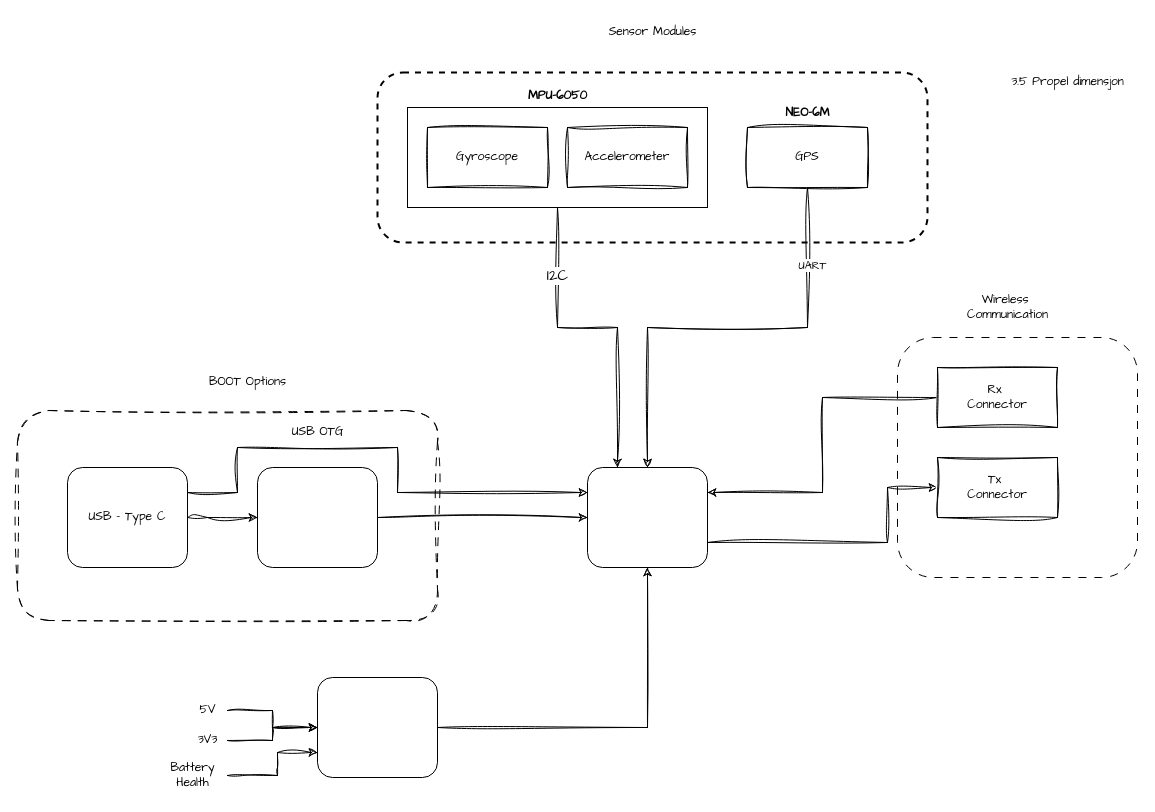
The diagram is 1155 pixels wide and 812 high, and some of its shapes have lost their labels. The box of each missing label's shape, as (x1, y1, x2, y2) in pixels:
ESP32 S3-Mini: (586, 466, 708, 568)
Power Management: (316, 676, 438, 778)
USB-UART Bridge: (256, 466, 378, 568)
